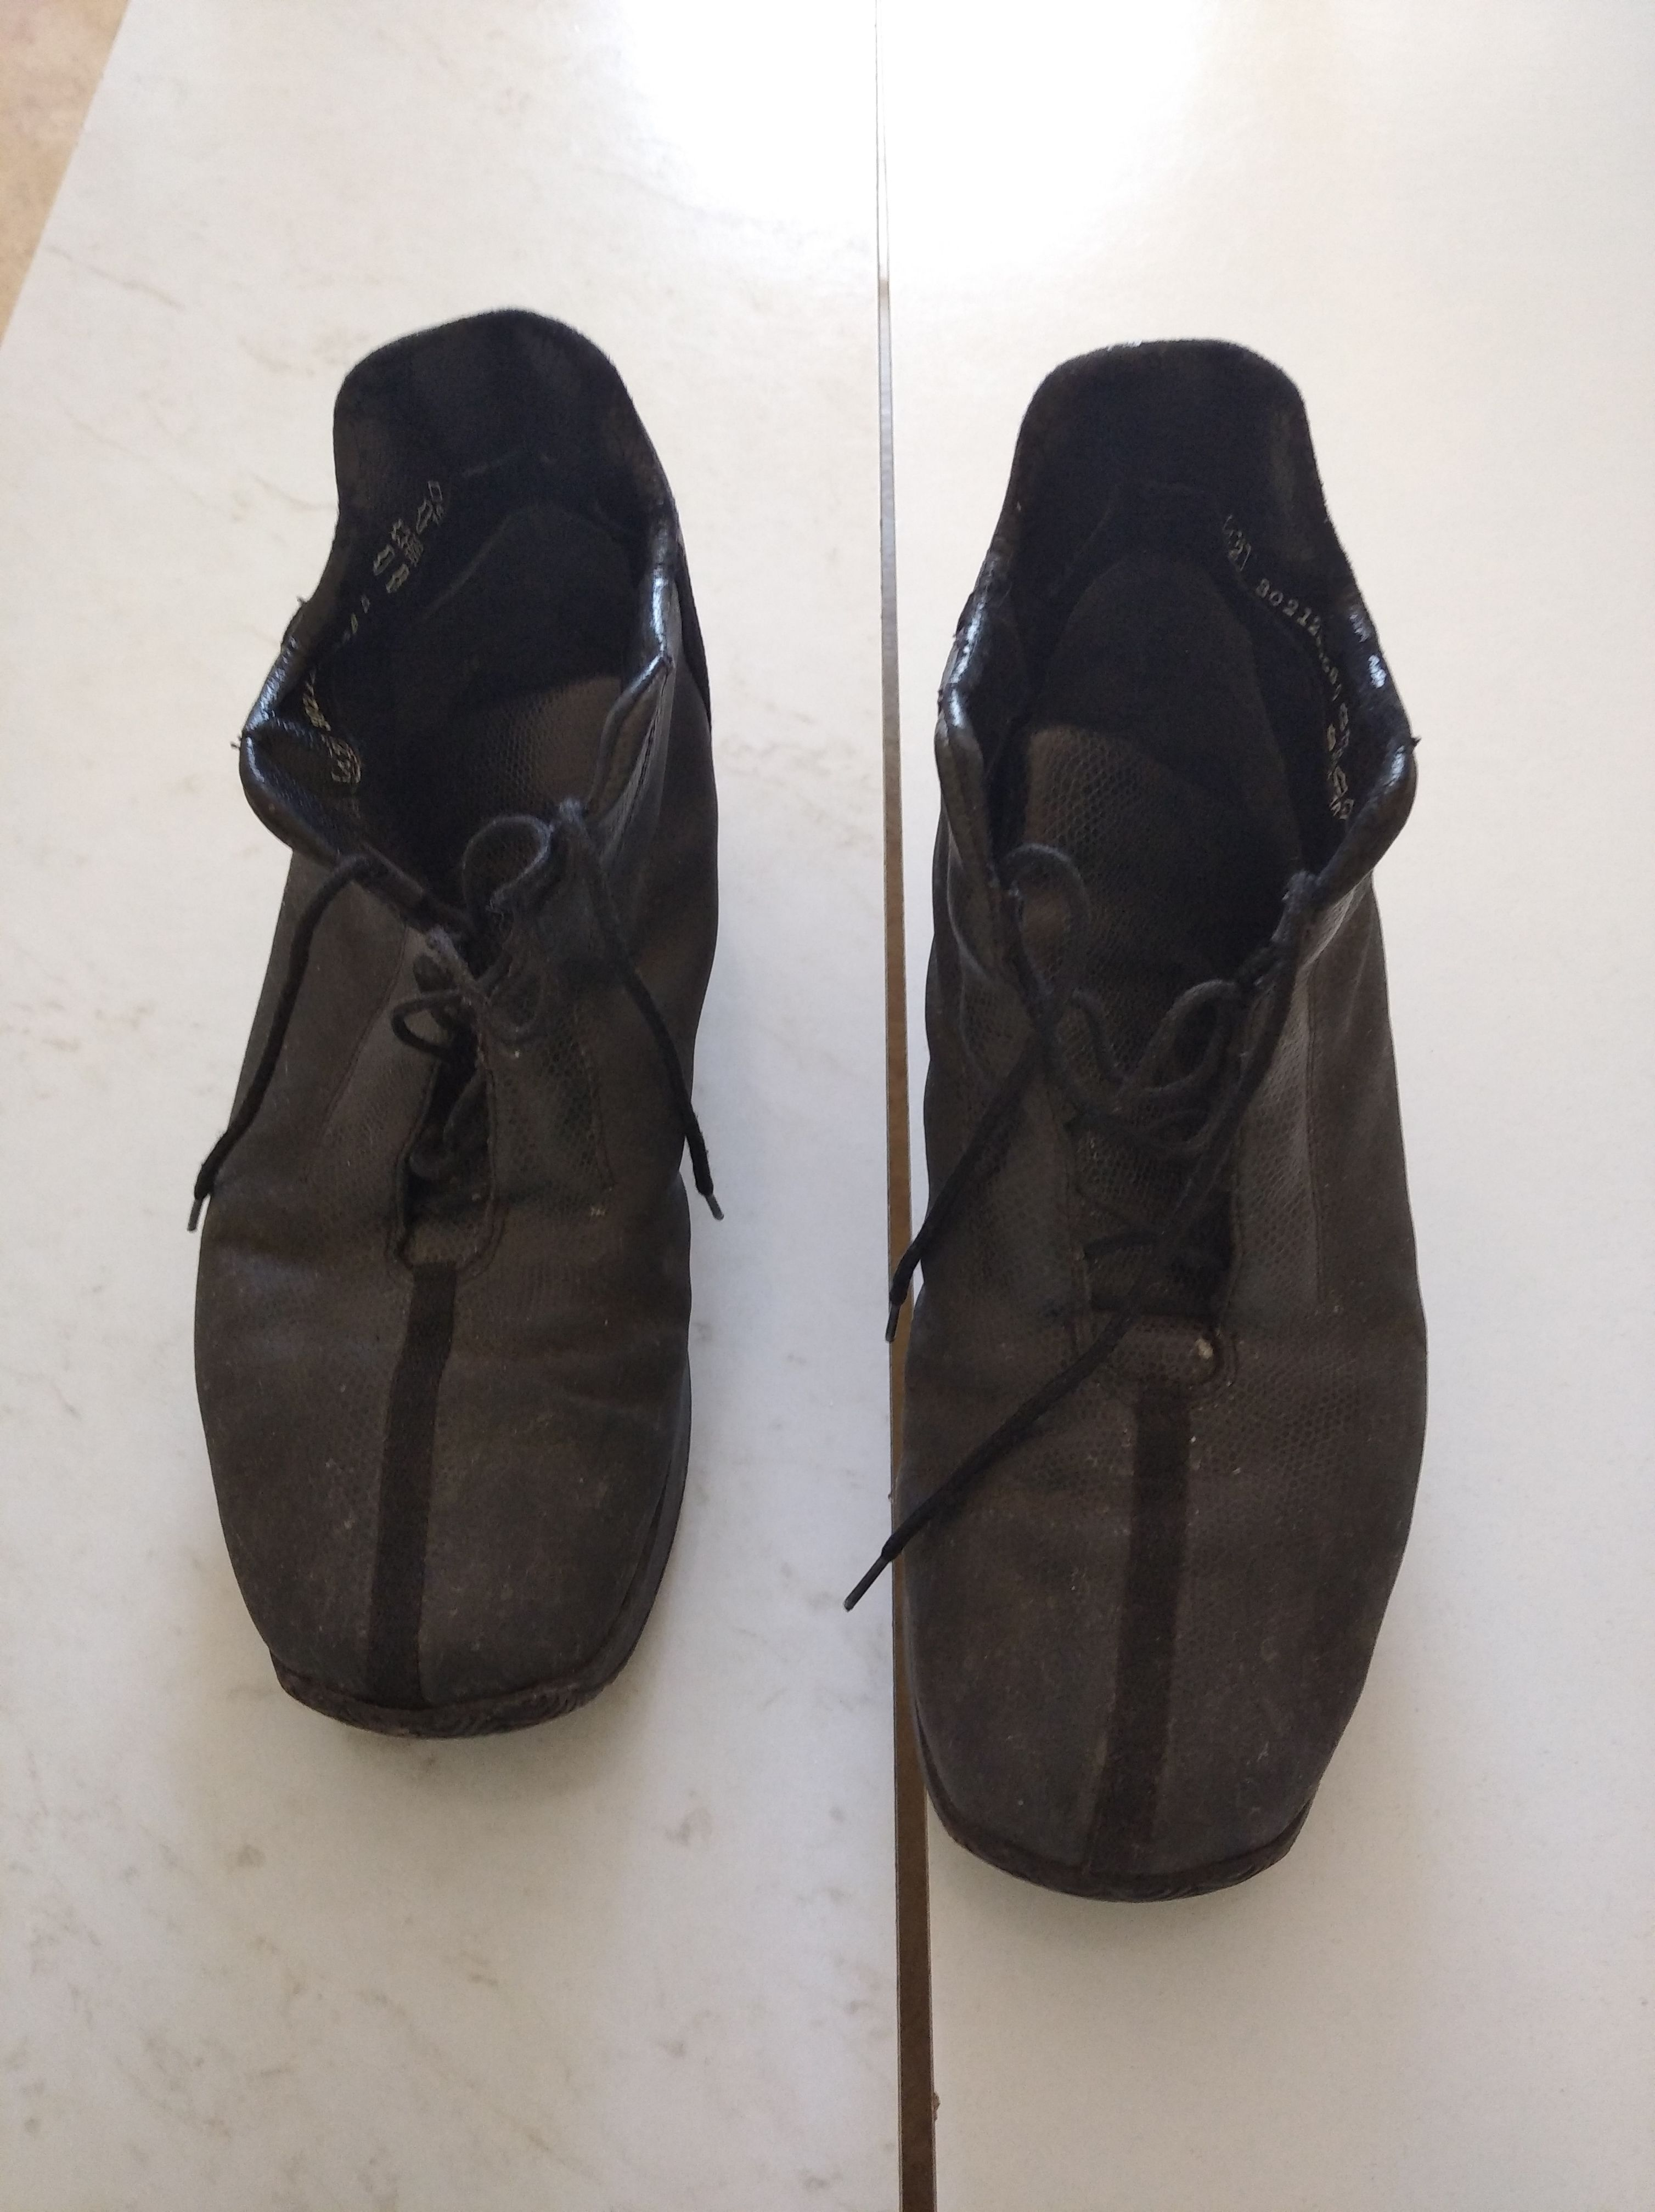clothes: (901, 309, 1441, 1929), (177, 295, 688, 1729)
